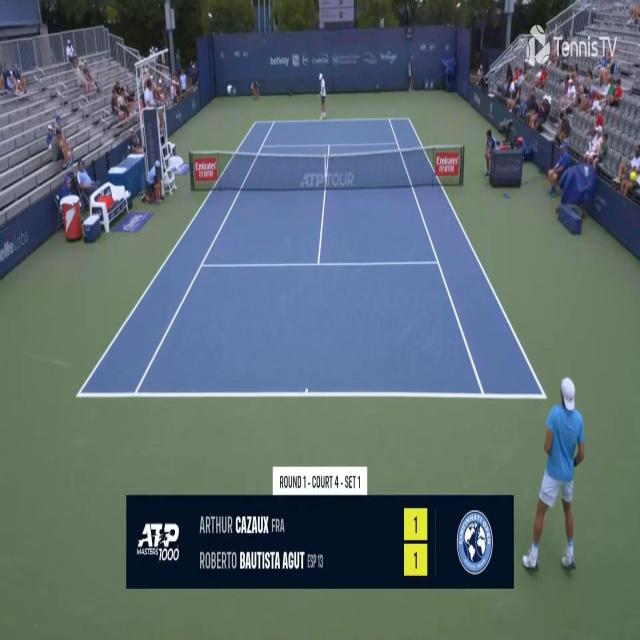tennis-player: (520, 372, 590, 578), (316, 72, 327, 122)
